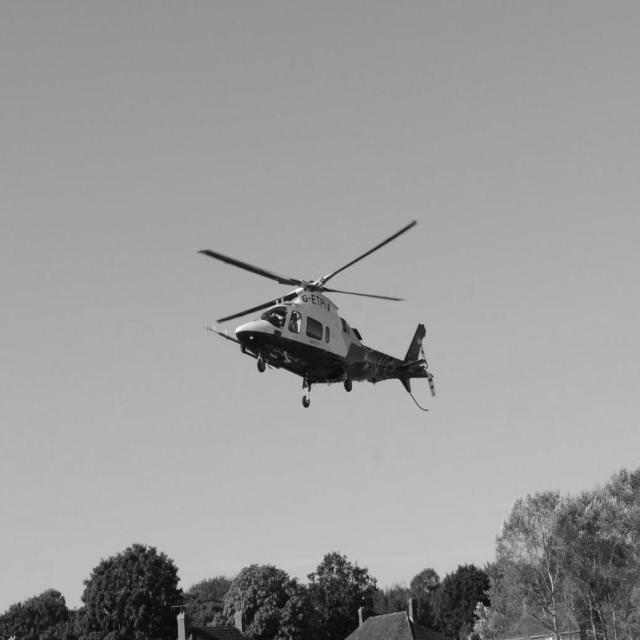helicopter: (207, 187, 451, 422)
